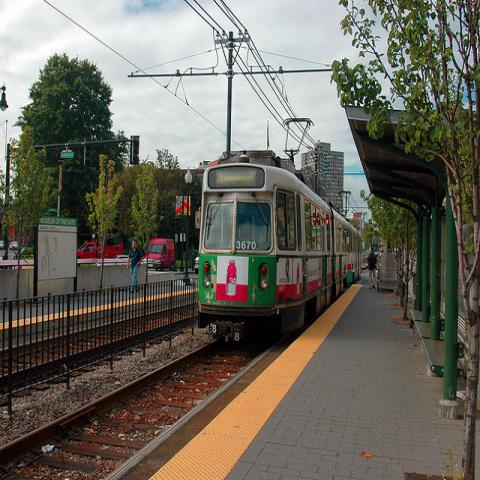car: (78, 241, 124, 260), (149, 239, 176, 271), (20, 249, 33, 258), (10, 241, 19, 253), (115, 255, 130, 260), (0, 240, 5, 250)
truck: (143, 239, 176, 272), (77, 242, 123, 259)
